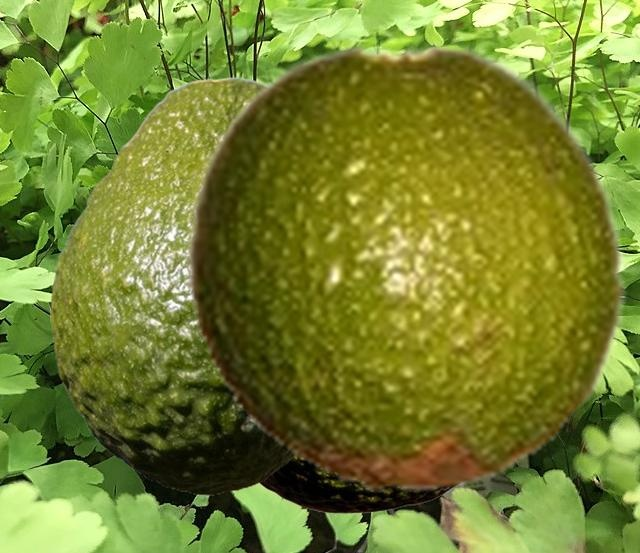avocado: (184, 42, 630, 493), (50, 76, 297, 494), (258, 457, 457, 512)
